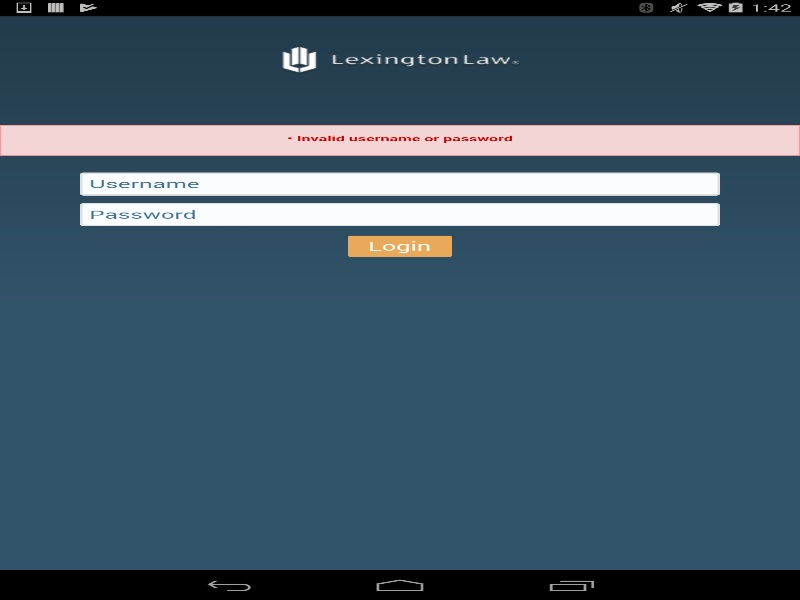Button: (348, 235, 453, 256)
Input: (80, 172, 720, 195), (80, 203, 720, 226)
